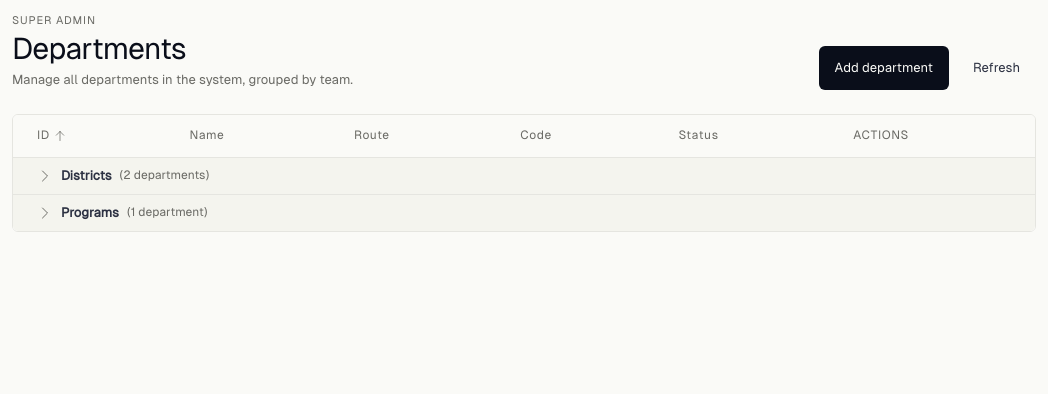
Test: Manage departments cluster › shows each community's cluster and flags ones without
Click the text "Districts".
click(123, 176)  # box [37, 168, 209, 184]
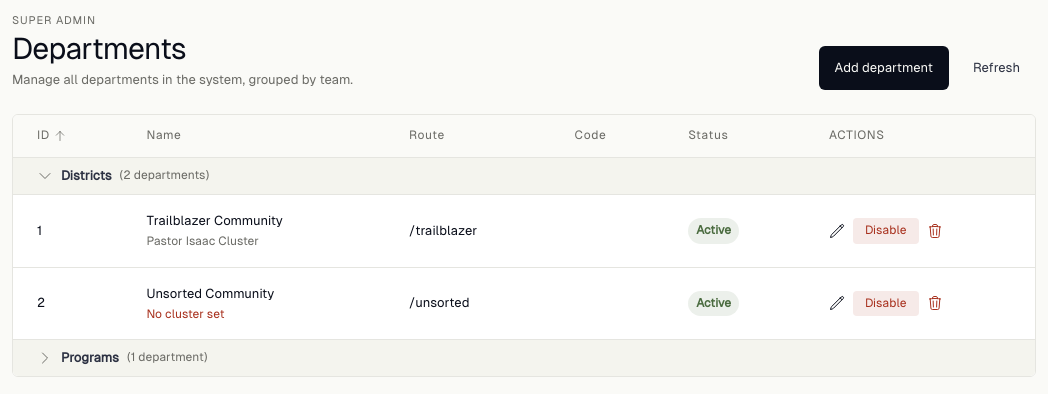
Now the text "Pastor Isaac Cluster" is shown, box [146, 234, 259, 248]
Now the text "No cluster set" is shown, box [146, 307, 224, 321]
